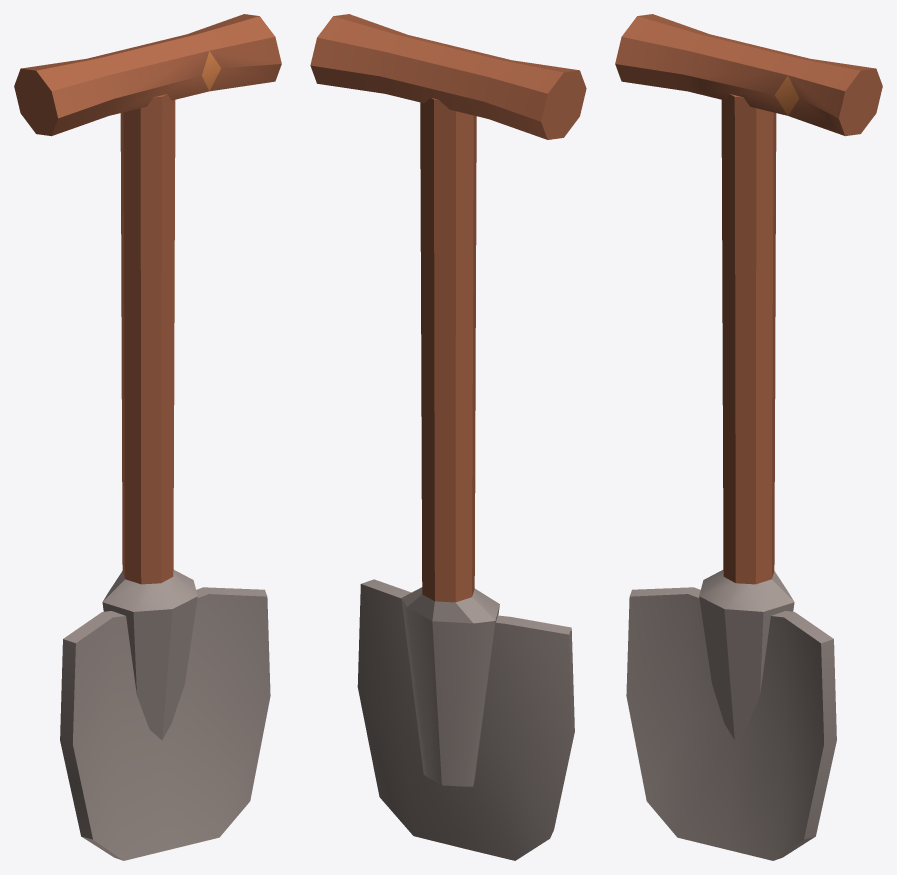
Rendered from PaPequena.fbx.
The picture shows the model from 3 angles, left to right: view 1: azimuth 30°, elevation 25°; view 2: azimuth 150°, elevation 25°; view 3: azimuth 330°, elevation 25°; orthographic projection. The views are drawn at different scales.
Visible parts, largest first — view 1: ShovelS_LOD0; view 2: ShovelS_LOD0; view 3: ShovelS_LOD0.
Boxes of the visible parts, x1,y1,x2,y2 form: ShovelS_LOD0: (14, 14, 281, 860); ShovelS_LOD0: (310, 14, 586, 860); ShovelS_LOD0: (615, 14, 882, 860).
Size of what is drawn, in the model's own units: 0.2646 by 0.8941 by 0.0955.
